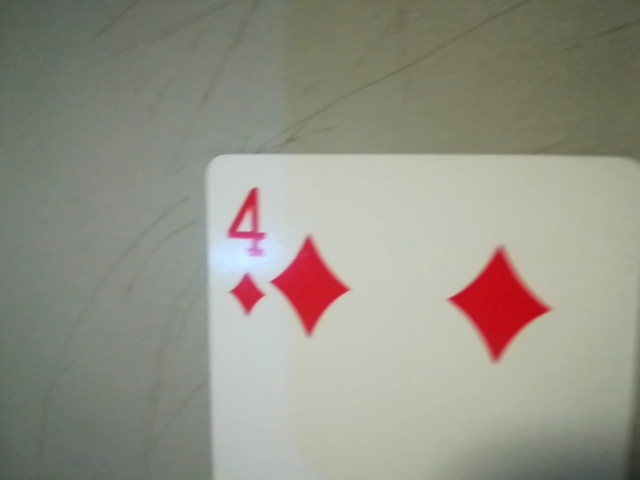fk 4: (208, 176, 280, 327)
